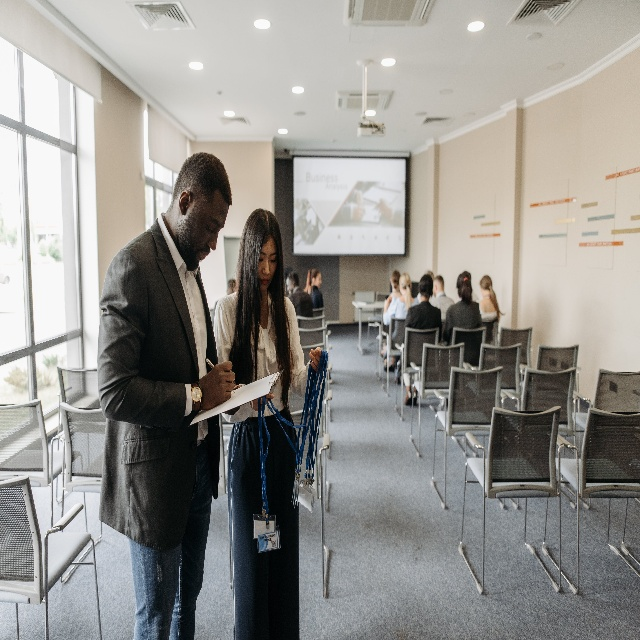Sin_guantes: (199, 359, 236, 409), (309, 345, 328, 377), (250, 393, 276, 413)
